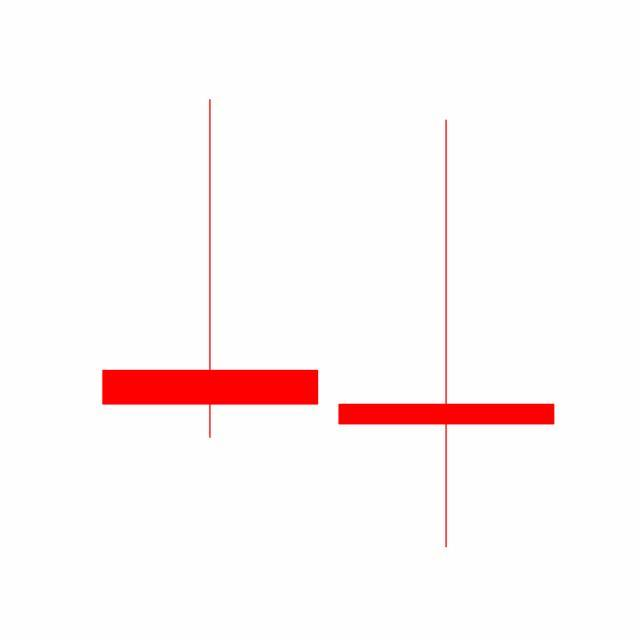Spinning Top: (328, 116, 566, 553)
